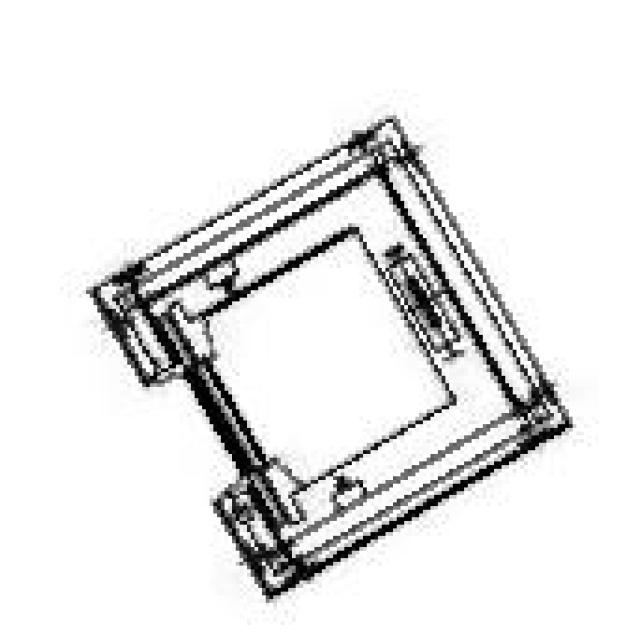lift: (82, 112, 569, 595)
